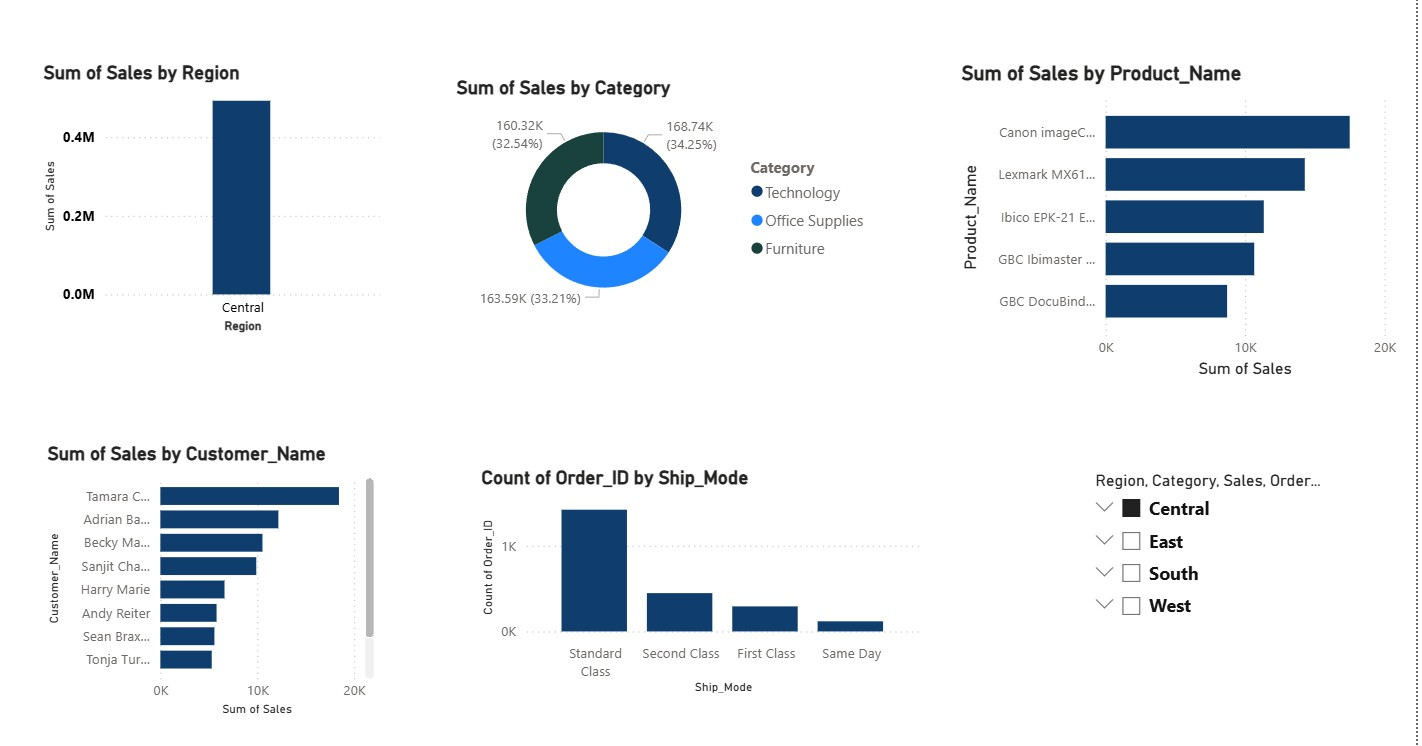

This screenshot's page, from the dashboard's own definition file:
{"tool":"powerbi","page":{"name":"Page 1","canvas":[1280,720],"ordinal":0},"visuals":[{"type":"columnChart","fields":{"Category":["superstore_final_dataset.Region"],"Y":["superstore_final_dataset.Sales"]},"box":[46.7,99.2,311.2,248],"z":0},{"type":"clusteredBarChart","fields":{"Category":["superstore_final_dataset.Product_Name"],"Y":["superstore_final_dataset.Sales"]},"box":[868.6,99.2,398.8,287.9],"z":1},{"type":"clusteredBarChart","fields":{"Category":["superstore_final_dataset.Customer_Name"],"Y":["superstore_final_dataset.Sales"]},"box":[50.6,440.6,302.5,250],"z":2},{"type":"donutChart","fields":{"Category":["superstore_final_dataset.Category"],"Y":["superstore_final_dataset.Sales"]},"box":[416.3,112.8,383.2,220.8],"z":3},{"type":"columnChart","fields":{"Category":["superstore_final_dataset.Ship_Mode"],"Y":["superstore_final_dataset.Order_ID"]},"box":[438.7,462,402.7,208.1],"z":4},{"type":"slicer","fields":{"Values":["superstore_final_dataset.Region","superstore_final_dataset.Category","superstore_final_dataset.Sales","superstore_final_dataset.Order_ID","superstore_final_dataset.Product_Name","superstore_final_dataset.Customer_Name","superstore_final_dataset.Ship_Mode"]},"box":[980.4,462,240.2,249],"z":5},{"type":"textbox","box":[0,0,1280,40.9],"z":6}]}

Visuals, with their boxes on the page's 1280x720 design canvas (x1, y1, x2, y2). These are canvas units, not pixel positions in the 1422x746 screenshot, which may show the page scaled, cropped or inside an application window:
columnChart - superstore_final_dataset.Region x superstore_final_dataset.Sales: box=[47, 99, 358, 347]
clusteredBarChart - superstore_final_dataset.Product_Name x superstore_final_dataset.Sales: box=[869, 99, 1267, 387]
clusteredBarChart - superstore_final_dataset.Customer_Name x superstore_final_dataset.Sales: box=[51, 441, 353, 691]
donutChart - superstore_final_dataset.Category x superstore_final_dataset.Sales: box=[416, 113, 800, 334]
columnChart - superstore_final_dataset.Ship_Mode x superstore_final_dataset.Order_ID: box=[439, 462, 841, 670]
slicer - superstore_final_dataset.Region x superstore_final_dataset.Category: box=[980, 462, 1221, 711]
textbox: box=[0, 0, 1280, 41]
